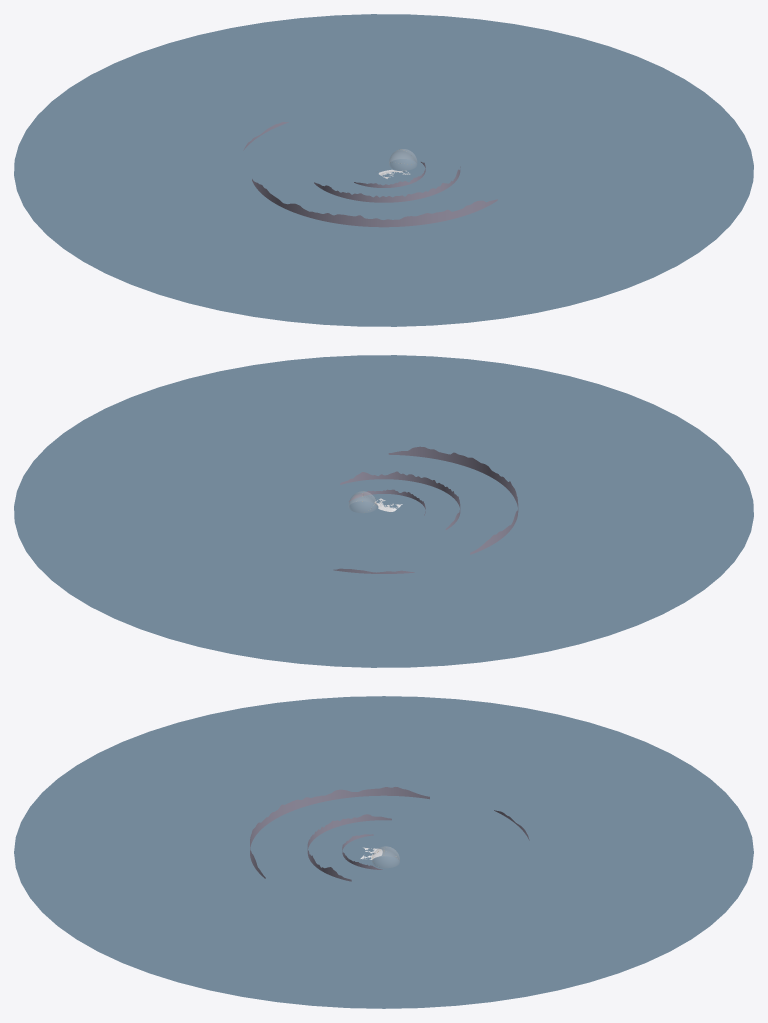
File: dawn.glb
3 renders of one model, top to bottom at view 1: azimuth 30°, elevation 25°; view 2: azimuth 150°, elevation 25°; view 3: azimuth 270°, elevation 25°, orthographic.
Parts seen in each view (by area): view 1: dawn.water, dawn.hills.2, dawn.hills.1; view 2: dawn.water, dawn.hills.2, dawn.hills.1; view 3: dawn.water, dawn.hills.2, dawn.hills.1.
Part boxes in pixels (x1=…): dawn.water: x1=14, y1=14, x2=753, y2=326; dawn.hills.2: x1=252, y1=179, x2=497, y2=227; dawn.hills.1: x1=314, y1=166, x2=460, y2=202; dawn.water: x1=14, y1=355, x2=753, y2=667; dawn.hills.2: x1=388, y1=446, x2=518, y2=554; dawn.hills.1: x1=340, y1=471, x2=460, y2=529; dawn.water: x1=14, y1=696, x2=753, y2=1008; dawn.hills.2: x1=250, y1=787, x2=429, y2=878; dawn.hills.1: x1=307, y1=814, x2=391, y2=881.
Bounding box in the file's own units: 3200 × 371 × 3200.
